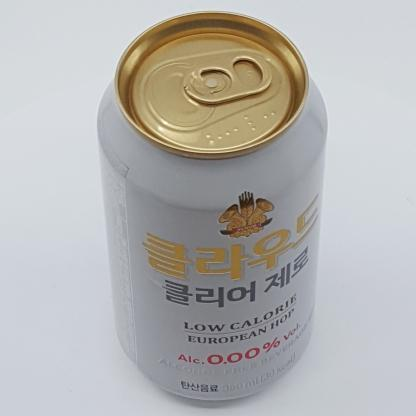--------------350ML: (97, 11, 327, 400)
